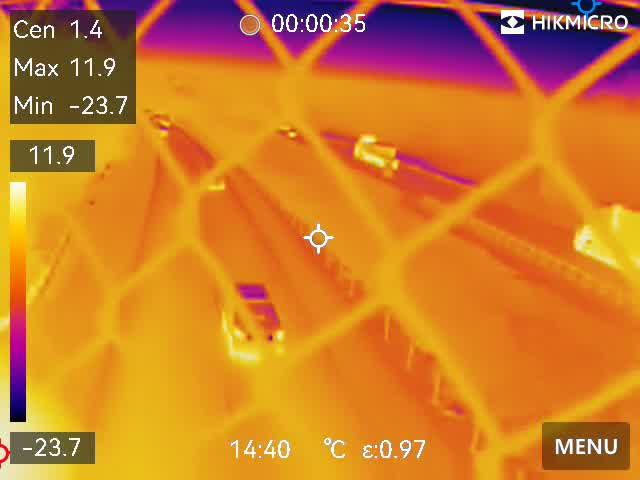heavyTruck: (571, 198, 640, 274), (355, 133, 399, 172)
vehicle: (222, 280, 284, 359)
